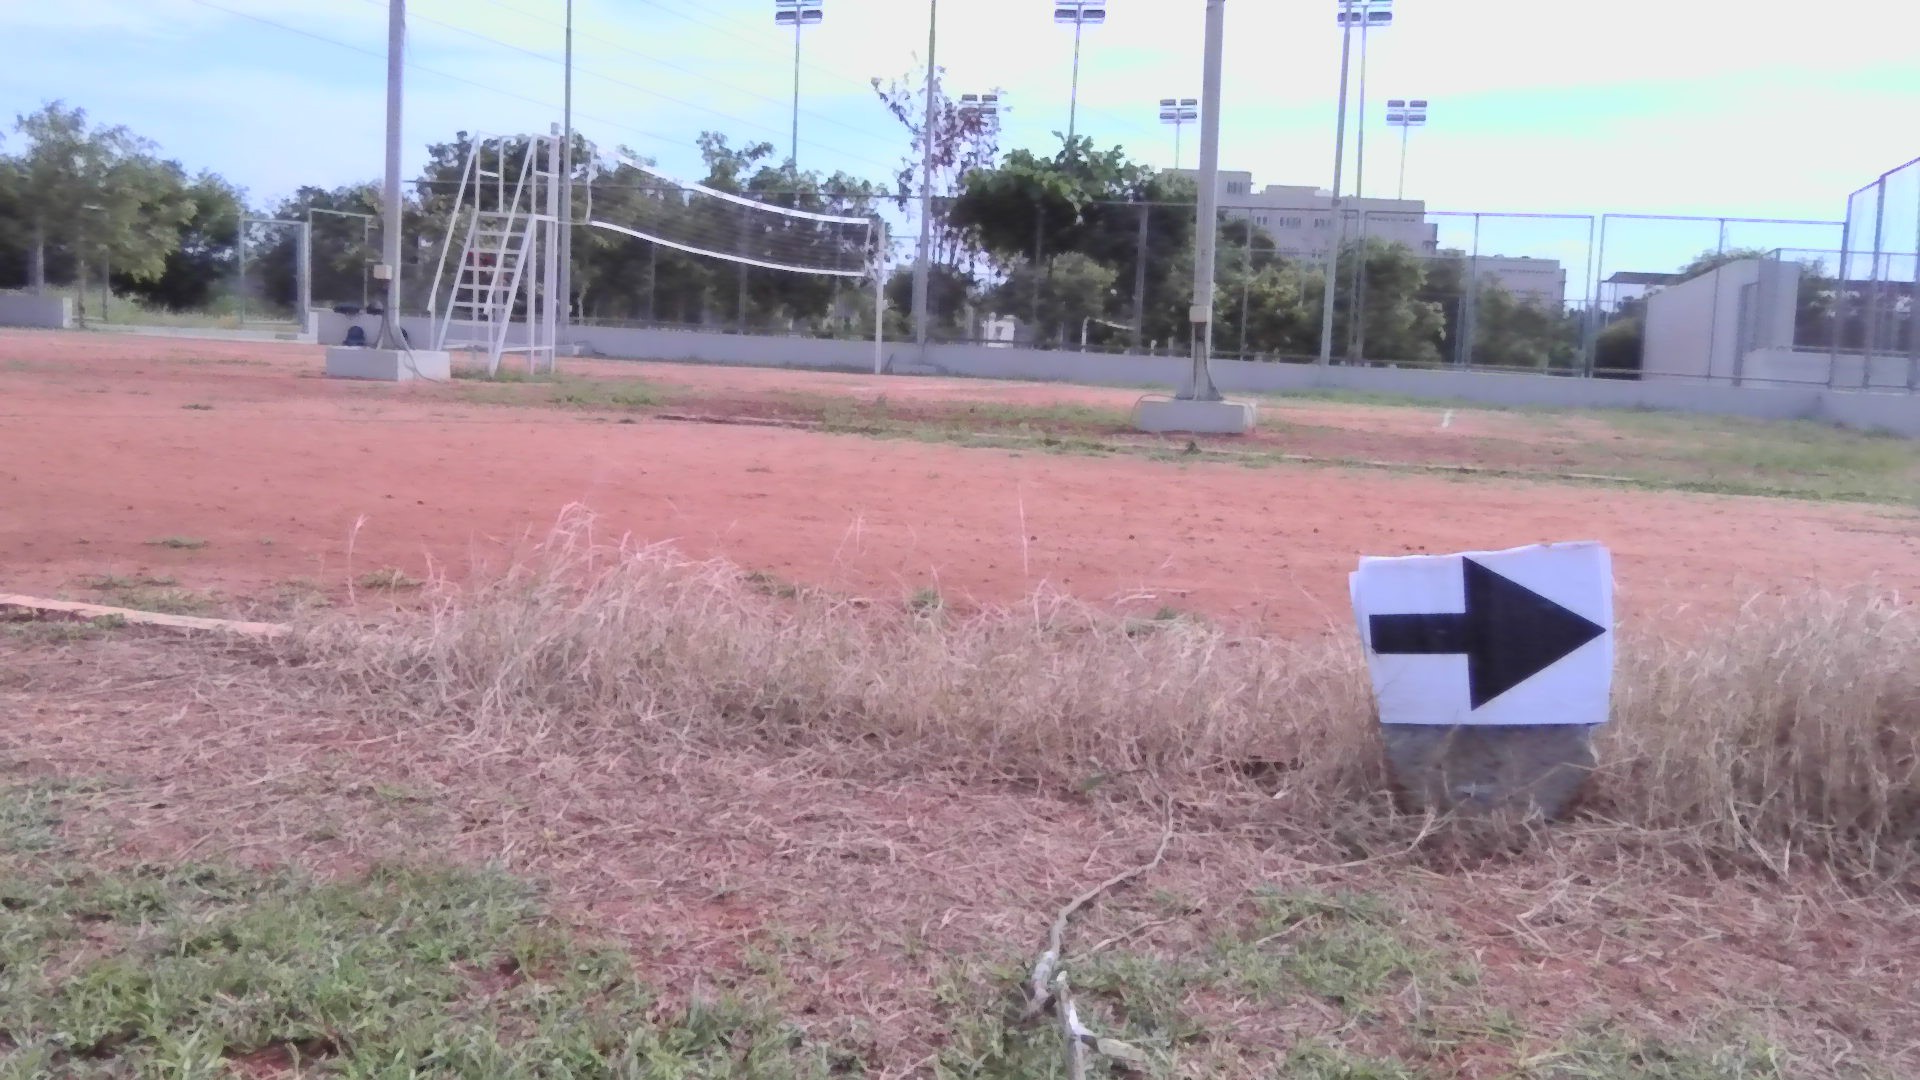leftDir: (1362, 549, 1605, 731)
